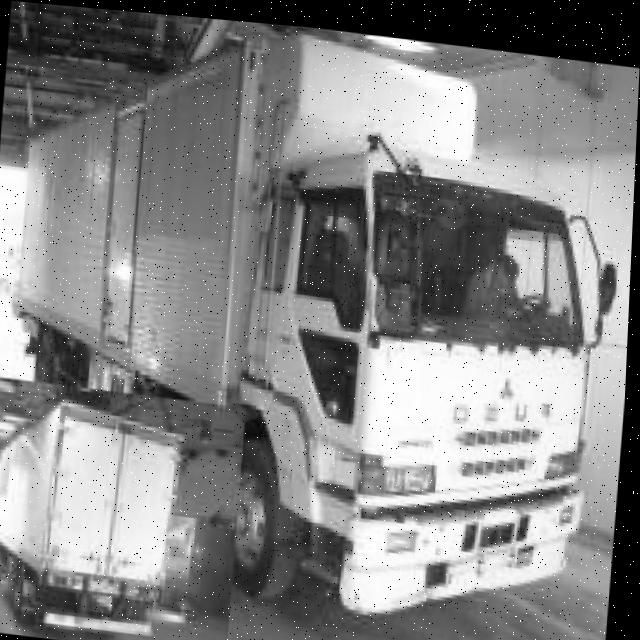truck: (189, 96, 634, 636), (1, 387, 189, 640)
